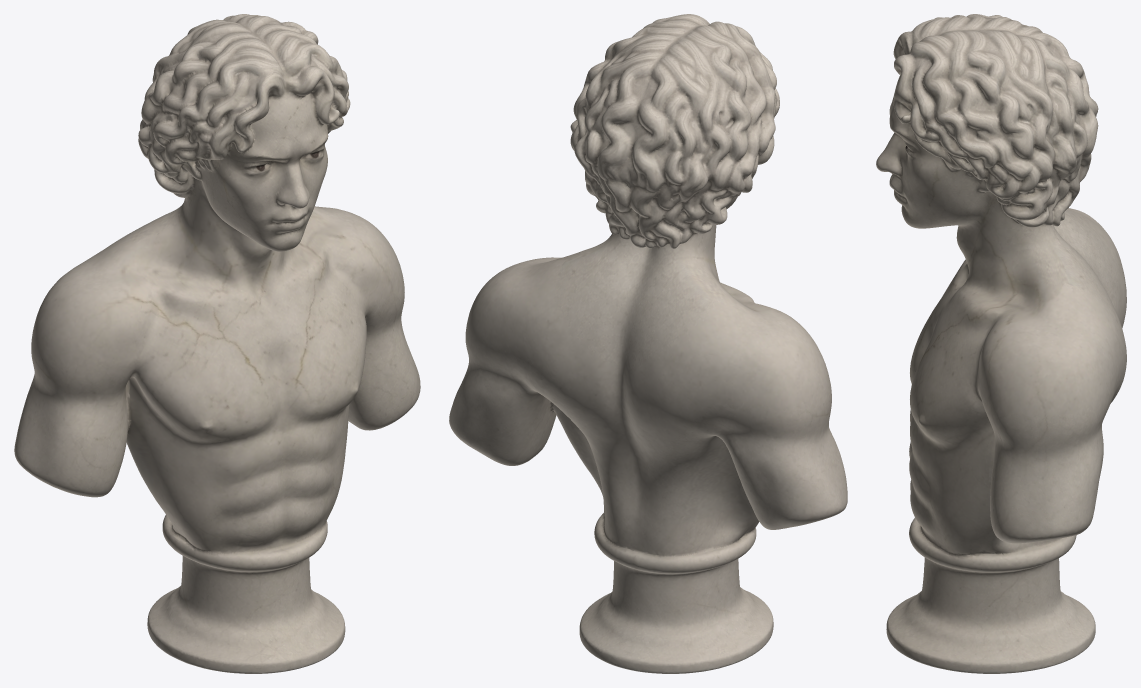
The model's file is Meshy_AI_Golden_Gaze_of_Marble_1016163151_texture.glb.
The picture shows the model from 3 angles, left to right: view 1: azimuth 30°, elevation 25°; view 2: azimuth 150°, elevation 25°; view 3: azimuth 270°, elevation 25°; orthographic projection.
Size of the model in its own units: 1.29 by 1.9 by 0.7102.
1 material, 1 textured.
